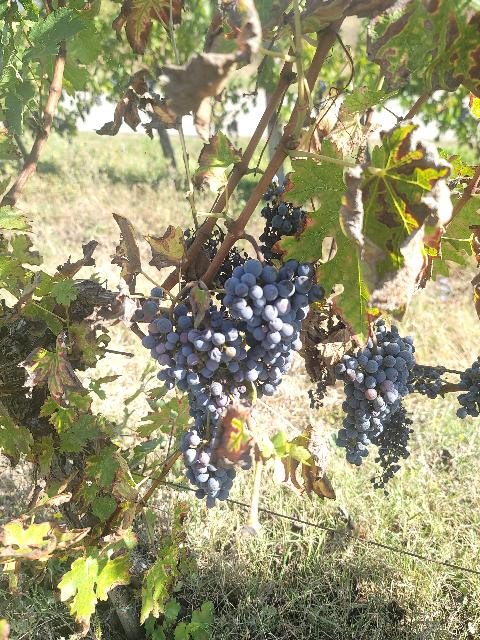grapes: (222, 259, 324, 396), (335, 320, 415, 465), (142, 305, 214, 395), (180, 416, 236, 509), (188, 312, 249, 384), (370, 405, 414, 489)
